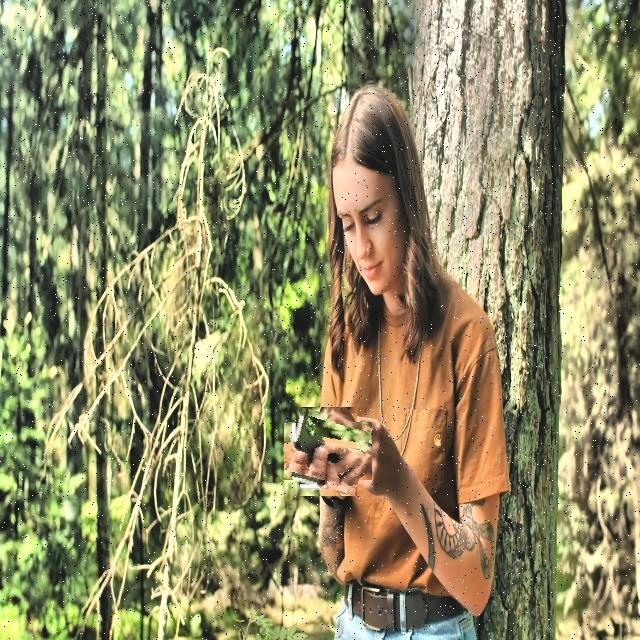Phone: (287, 411, 369, 492)
